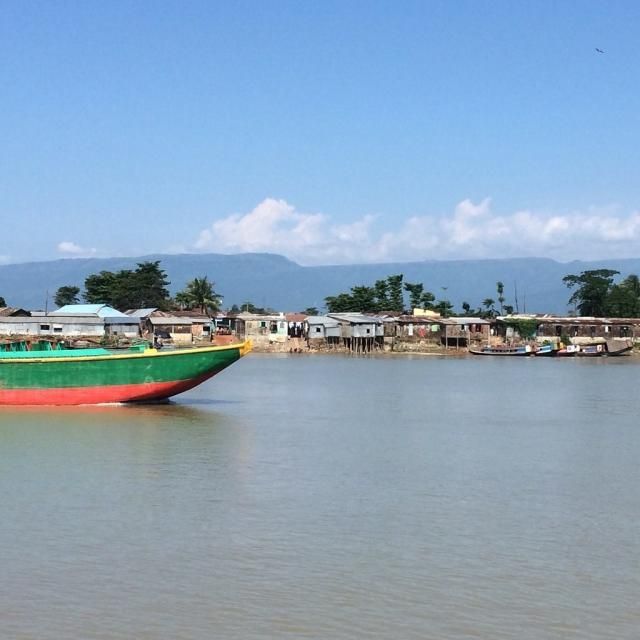boat: (468, 343, 556, 360), (578, 346, 630, 360)
